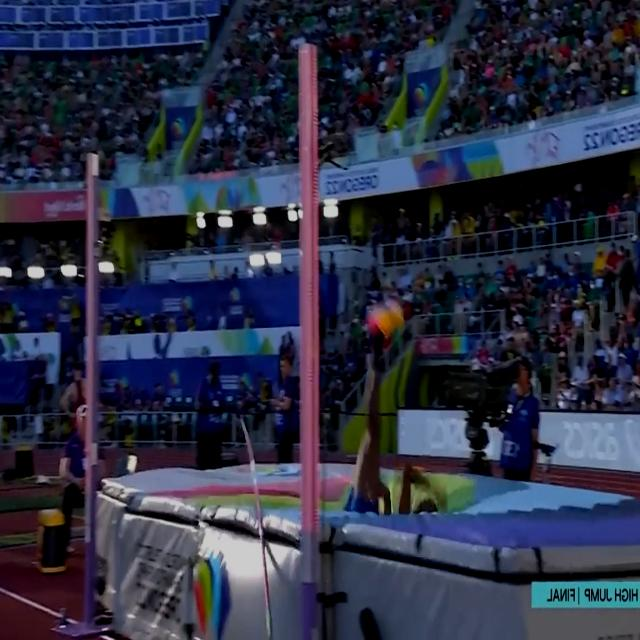land: (345, 304, 444, 516)
